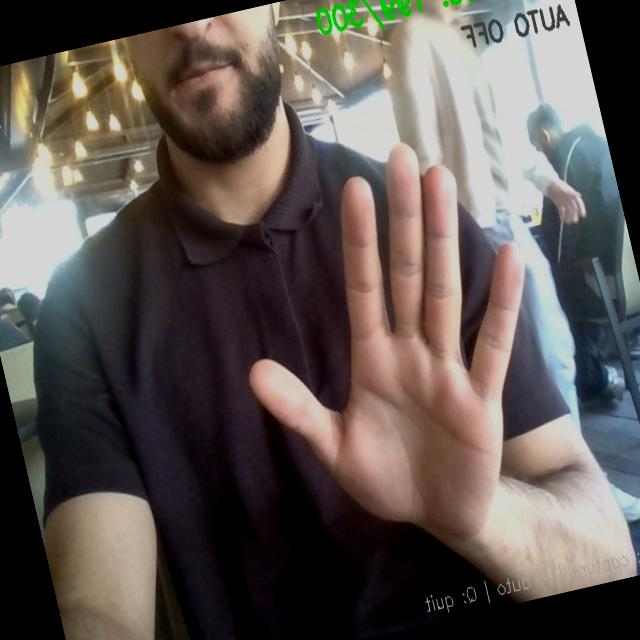Hand: (250, 145, 523, 538), (547, 179, 586, 224)
